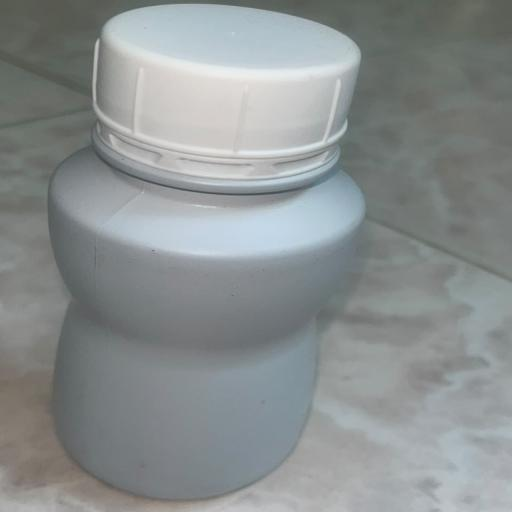HDPE: (36, 11, 440, 488)
